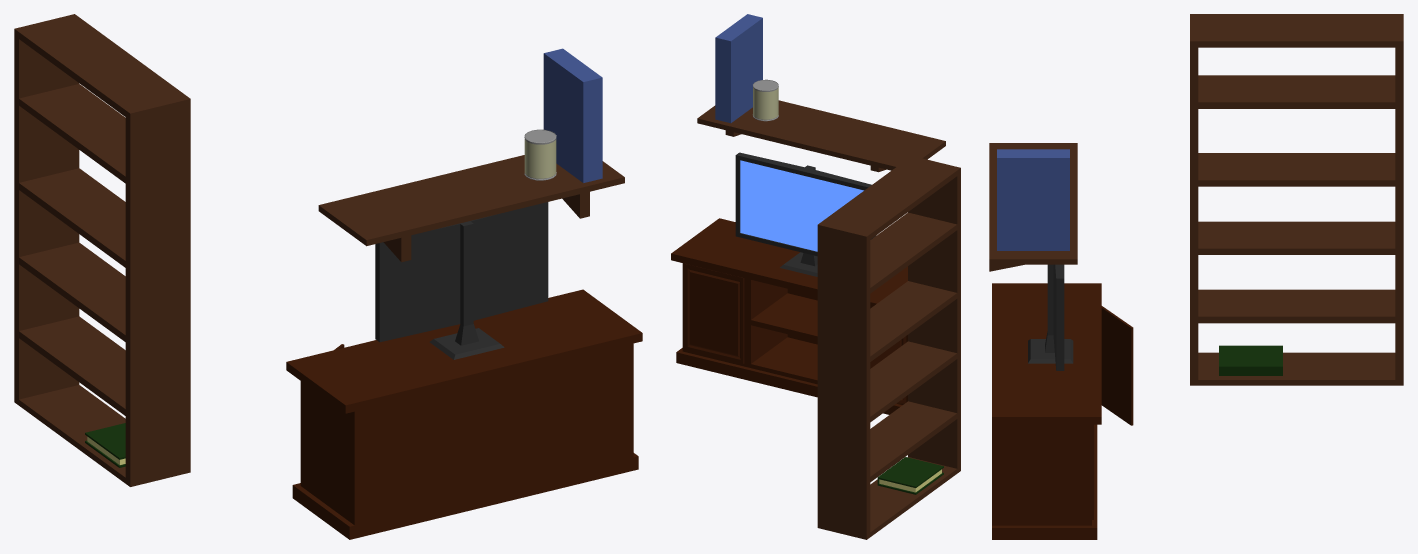
File: Props4.fbx
3 renders of one model, left to right at view 1: azimuth 30°, elevation 25°; view 2: azimuth 150°, elevation 25°; view 3: azimuth 270°, elevation 25°, orthographic. The views are drawn at different scales.
Parts seen in each view (by area): view 1: Shelf.Tall, TVstand, TV, Shelf.Wall, Box, Can, Book2; view 2: Shelf.Tall, TVstand, TV, Shelf.Wall, CabineteDoor, Box, Book2, Can; view 3: Shelf.Tall, TVstand, Box, Shelf.Wall, CabineteDoor.001, TV, Book2.
Part boxes in pixels (bbox=[...]): Shelf.Tall: bbox=[14, 14, 190, 486]; TVstand: bbox=[286, 289, 642, 539]; TV: bbox=[375, 202, 548, 359]; Shelf.Wall: bbox=[318, 155, 624, 262]; Box: bbox=[543, 48, 602, 182]; Can: bbox=[524, 129, 556, 180]; Book2: bbox=[85, 423, 125, 467]; Shelf.Tall: bbox=[817, 156, 960, 539]; TVstand: bbox=[671, 218, 907, 414]; TV: bbox=[735, 152, 876, 276]; Shelf.Wall: bbox=[697, 100, 945, 172]; CabineteDoor: bbox=[685, 263, 744, 363]; Box: bbox=[715, 14, 762, 123]; Book2: bbox=[877, 457, 943, 494]; Can: bbox=[752, 79, 778, 121]; Shelf.Tall: bbox=[1190, 14, 1403, 385]; TVstand: bbox=[992, 283, 1101, 539]; Box: bbox=[997, 149, 1069, 250]; Shelf.Wall: bbox=[989, 143, 1077, 271]; CabineteDoor.001: bbox=[1101, 306, 1133, 425]; TV: bbox=[1028, 264, 1073, 370]; Book2: bbox=[1219, 345, 1282, 375].
Bounding box in the file's own units: 5.58 × 5.24 × 5.36.
